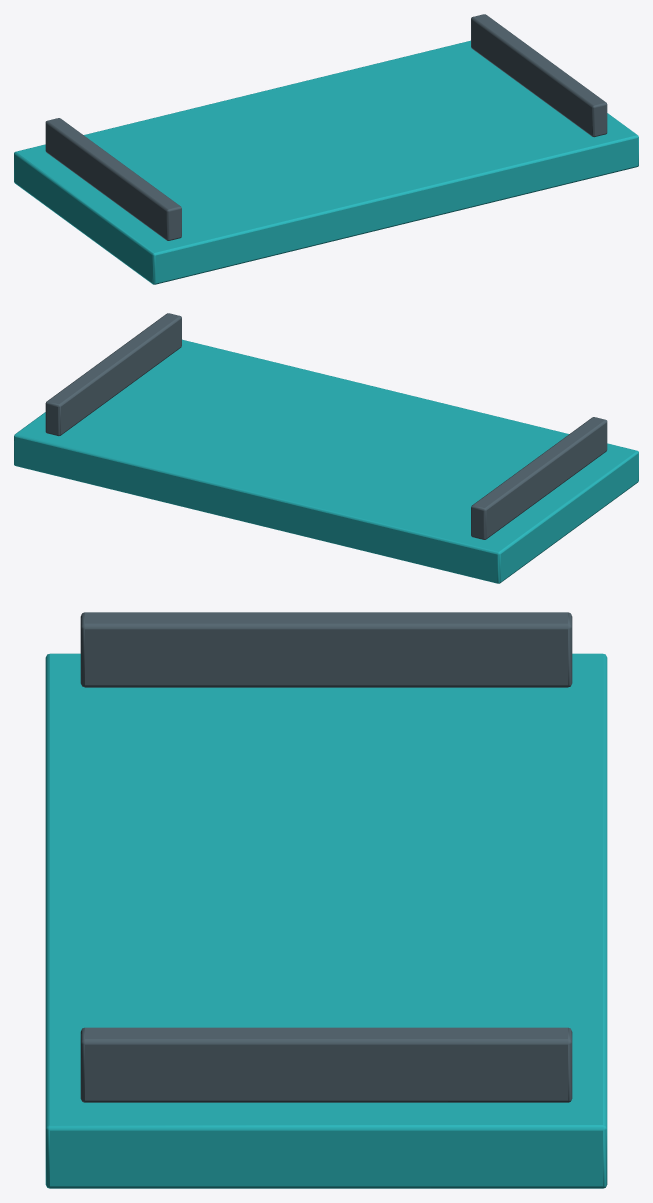
Rendered from MOD_Canopy_01.glb.
The picture shows the model from 3 angles, top to bottom: view 1: azimuth 30°, elevation 25°; view 2: azimuth 150°, elevation 25°; view 3: azimuth 270°, elevation 25°; orthographic projection. The views are drawn at different scales.
Visible parts, largest first — view 1: MOD_Canopy_01; view 2: MOD_Canopy_01; view 3: MOD_Canopy_01.
Boxes of the visible parts, <box> form: MOD_Canopy_01: <box>14,14,638,284</box>; MOD_Canopy_01: <box>14,313,638,583</box>; MOD_Canopy_01: <box>45,612,607,1188</box>.
Size of the model in its own units: 4 by 0.5 by 2.
